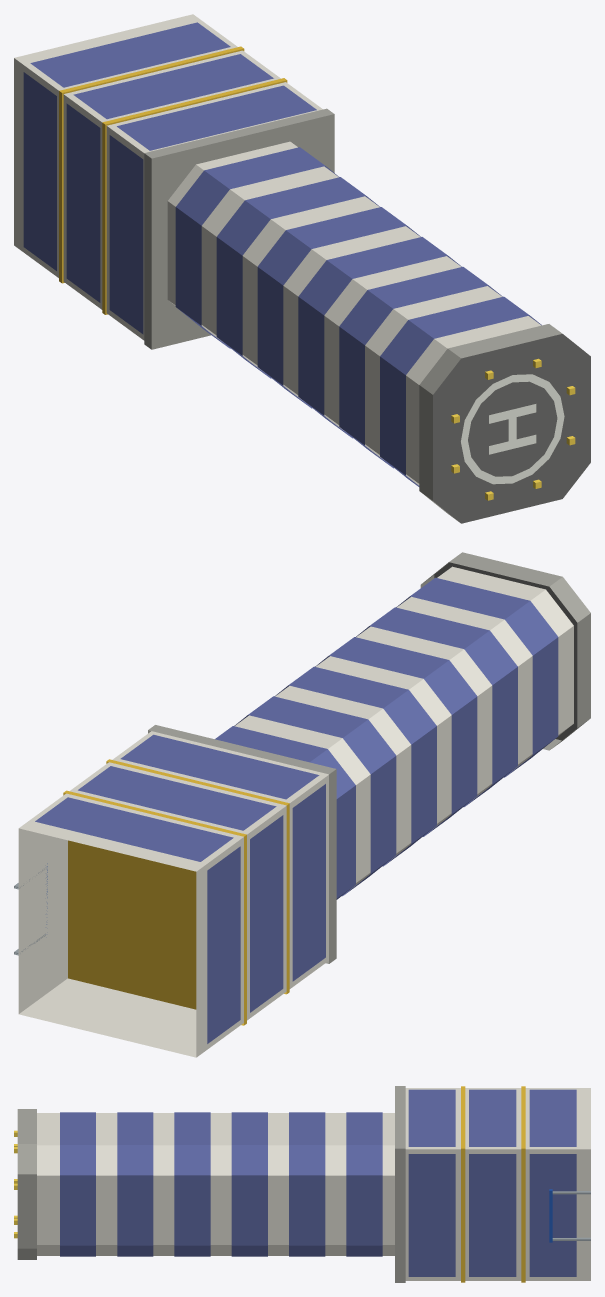
The picture shows the model from 3 angles, top to bottom: view 1: azimuth 30°, elevation 25°; view 2: azimuth 150°, elevation 25°; view 3: azimuth 270°, elevation 25°; orthographic projection. The views are drawn at different scales.
Visible parts, largest first — view 1: t0_0_g44; view 2: t0_0_g44; view 3: t0_0_g44.
Boxes of the visible parts, x1=… form: t0_0_g44: x1=14, y1=14, x2=590, y2=523; t0_0_g44: x1=14, y1=552, x2=590, y2=1057; t0_0_g44: x1=14, y1=1086, x2=590, y2=1282.
Bounding box in the file's own units: 15.75 × 15.5 × 60.4.
